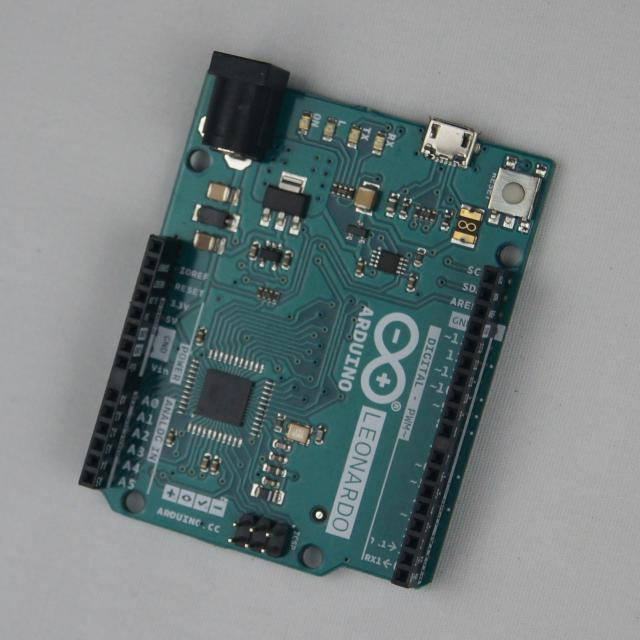Arduino-leonardo: (80, 53, 555, 587)
